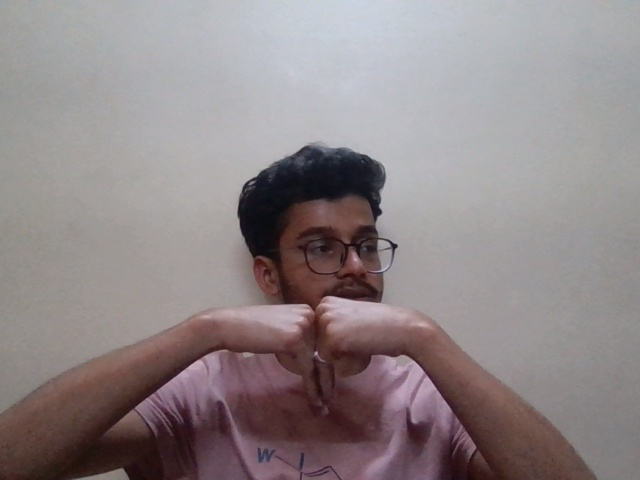yesterday: (224, 275, 413, 420)
